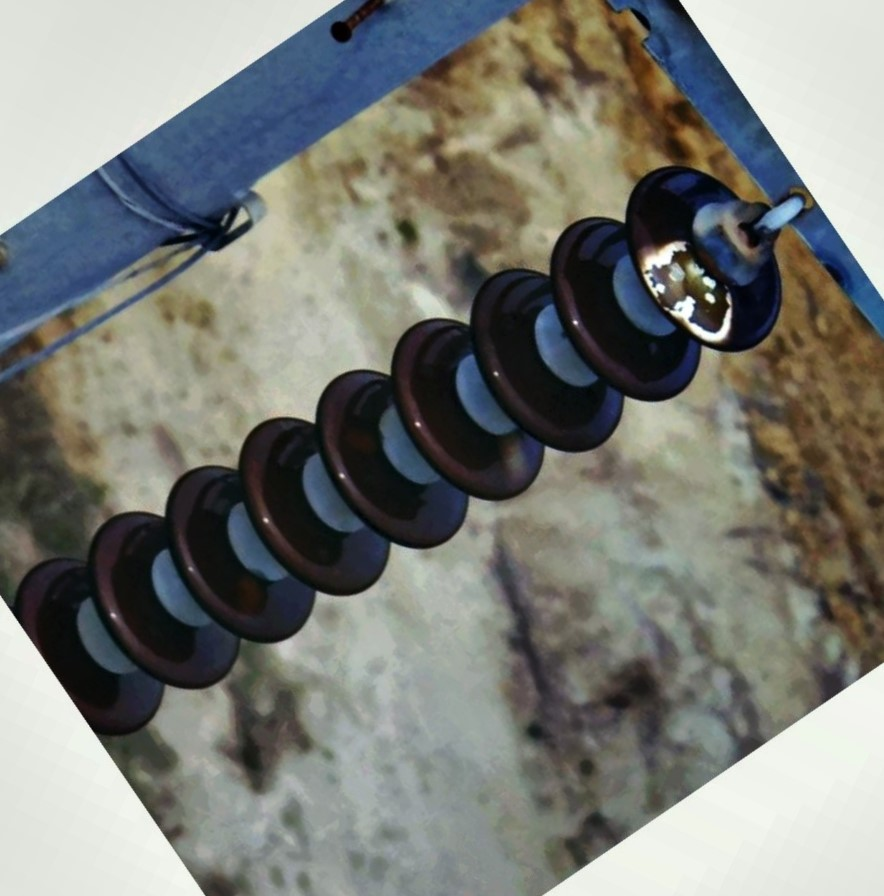Insulator flashover: (610, 157, 799, 354)
